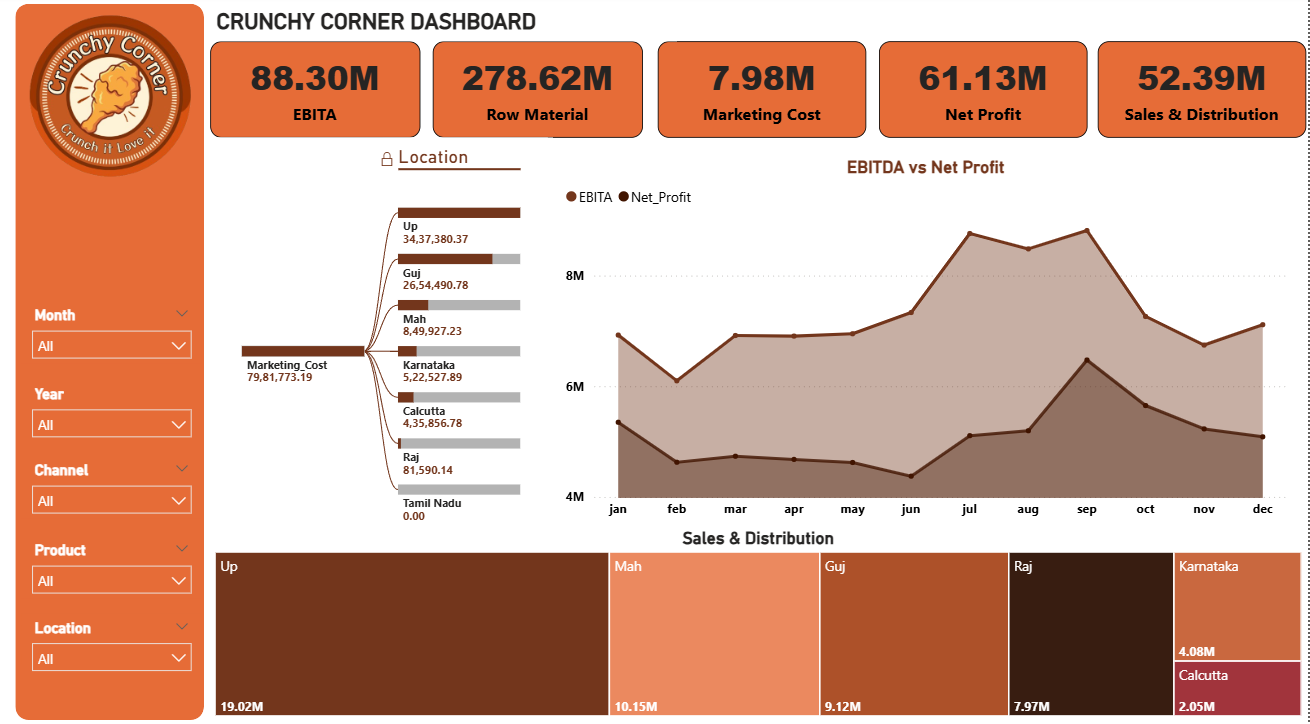

The dashboard page shown, as its layout file describes it:
{"tool":"powerbi","page":{"name":"Page 2","canvas":[1280,720],"ordinal":1},"visuals":[{"type":"shape","box":[15.9,8.6,184.6,700.7],"z":0},{"type":"card","fields":{"Values":["measure.s&d"]},"box":[1075.1,45.3,204.2,94.2],"z":0,"group":"g2"},{"type":"image","box":[6.1,0,204.2,199.3],"z":1000},{"type":"card","fields":{"Values":["measure.Net_Profit"]},"box":[861.1,45.3,204.2,94.2],"z":1000,"group":"g2"},{"type":"card","fields":{"Values":["measure.Marketing_Cost"]},"box":[644.7,45.3,204.2,94.2],"z":2000,"group":"g2"},{"type":"group","id":"g1","title":"Group 1","box":[21.8,299.6,174.9,368.1],"z":2000},{"type":"group","id":"g2","title":"Group 2","box":[206.9,45.3,1072.4,94.2],"z":3000},{"type":"card","fields":{"Values":["measure.Row_Mat"]},"box":[424.6,45.3,205.4,94.2],"z":3000,"group":"g2"},{"type":"textbox","box":[207.9,8.6,454.9,36.7],"z":4000},{"type":"card","fields":{"Values":["measure.EBITA"]},"box":[206.9,45.3,205.4,94.2],"z":4000,"group":"g2"},{"type":"decompositionTreeVisual","title":"Marketing Cost by Location ","fields":{"Analyze":["measure.Marketing_Cost"],"ExplainBy":["Location.Location"]},"box":[207.9,139.4,333.8,414.5],"z":5000},{"type":"areaChart","title":"EBITDA vs Net Profit","fields":{"Category":["Date.Month","Date.Quarter","Date.Year"],"Y":["measure.EBITA","measure.Net_Profit"]},"box":[549.1,157.7,715.4,363.2],"z":6000},{"type":"slicer","fields":{"Values":["Date.Month"]},"box":[21.8,299.6,176.1,61.1],"z":7000,"group":"g1"},{"type":"treemap","title":"Sales & Distribution","fields":{"Values":["measure.s&d"],"Group":["Location.Location"]},"box":[206.7,520.9,1072.4,189.5],"z":7000},{"type":"slicer","fields":{"Values":["Date.Year"]},"box":[21.8,376.6,176.1,61.1],"z":8000,"group":"g1"},{"type":"slicer","fields":{"Values":["Channel.Channel"]},"box":[21.8,451.2,176.1,61.1],"z":10000,"group":"g1"},{"type":"slicer","fields":{"Values":["Dim Product.Product"]},"box":[21.8,529.5,176.1,61.1],"z":11000,"group":"g1"},{"type":"slicer","fields":{"Values":["Location.Location"]},"box":[21.8,605.3,176.1,61.1],"z":12000,"group":"g1"}]}

Visuals, with their boxes in screenshot pixels (x1, y1, x2, y2), scaled from the page's 1280x720 canvas onto the 1310x724 screenshot:
shape: <box>16,9,205,713</box>
card - measure.s&d: <box>1100,46,1309,140</box>
image: <box>6,0,215,200</box>
card - measure.Net_Profit: <box>881,46,1090,140</box>
card - measure.Marketing_Cost: <box>660,46,869,140</box>
"Group 1" group: <box>22,301,201,671</box>
"Group 2" group: <box>212,46,1309,140</box>
card - measure.Row_Mat: <box>435,46,645,140</box>
textbox: <box>213,9,678,46</box>
card - measure.EBITA: <box>212,46,422,140</box>
"Marketing Cost by Location " decompositionTreeVisual: <box>213,140,554,557</box>
"EBITDA vs Net Profit" areaChart: <box>562,159,1294,524</box>
slicer - Date.Month: <box>22,301,203,363</box>
"Sales & Distribution" treemap: <box>212,524,1309,714</box>
slicer - Date.Year: <box>22,379,203,440</box>
slicer - Channel.Channel: <box>22,454,203,515</box>
slicer - Dim Product.Product: <box>22,532,203,594</box>
slicer - Location.Location: <box>22,609,203,670</box>
